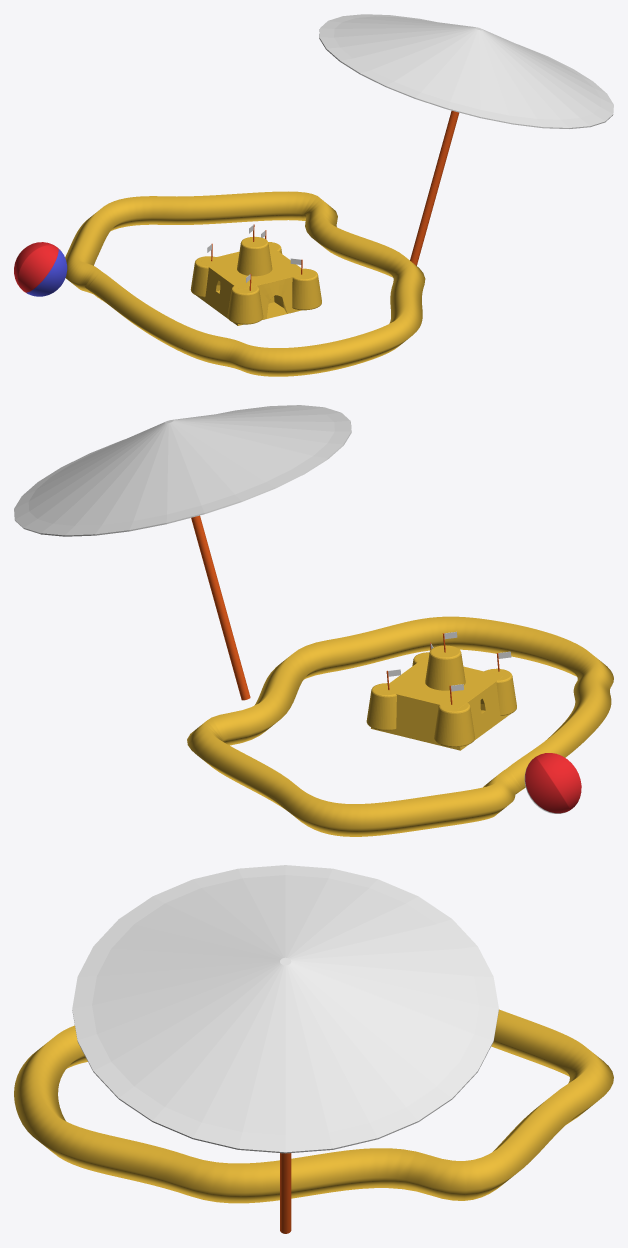
Rendered from Sand Castle.fbx.
The picture shows the model from 3 angles, top to bottom: view 1: azimuth 30°, elevation 25°; view 2: azimuth 150°, elevation 25°; view 3: azimuth 270°, elevation 25°; orthographic projection. The views are drawn at different scales.
Visible parts, largest first — view 1: BezierCurve, Cylinder.008, Cylinder.002, Cube.001, Sphere; view 2: Cylinder.008, BezierCurve, Cube.001, Cylinder.002, Sphere; view 3: Cylinder.008, BezierCurve.
Part boxes in pixels (box(x1,y1,x2,y2)): BezierCurve: box(65, 191, 425, 376); Cylinder.008: box(319, 14, 613, 265); Cylinder.002: box(190, 236, 321, 324); Cube.001: box(196, 244, 307, 325); Sphere: box(14, 242, 67, 296); Cylinder.008: box(14, 405, 351, 700); BezierCurve: box(187, 616, 613, 836); Cube.001: box(371, 657, 510, 750); Cylinder.002: box(366, 645, 516, 746); Sphere: box(524, 753, 581, 813); Cylinder.008: box(72, 865, 498, 1233); BezierCurve: box(14, 1009, 613, 1203).
Bounding box in the file's own units: 2988 × 1242 × 2122.
